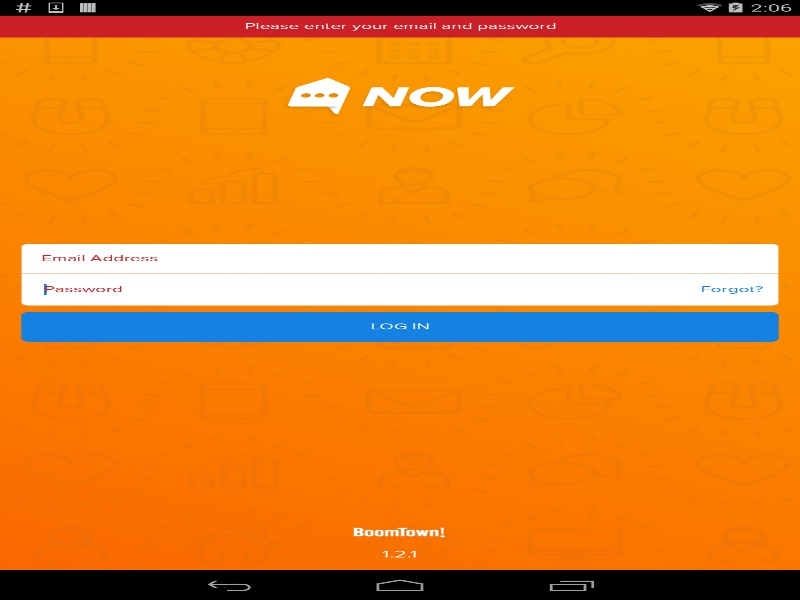Input: (21, 243, 778, 273), (30, 277, 621, 301)
